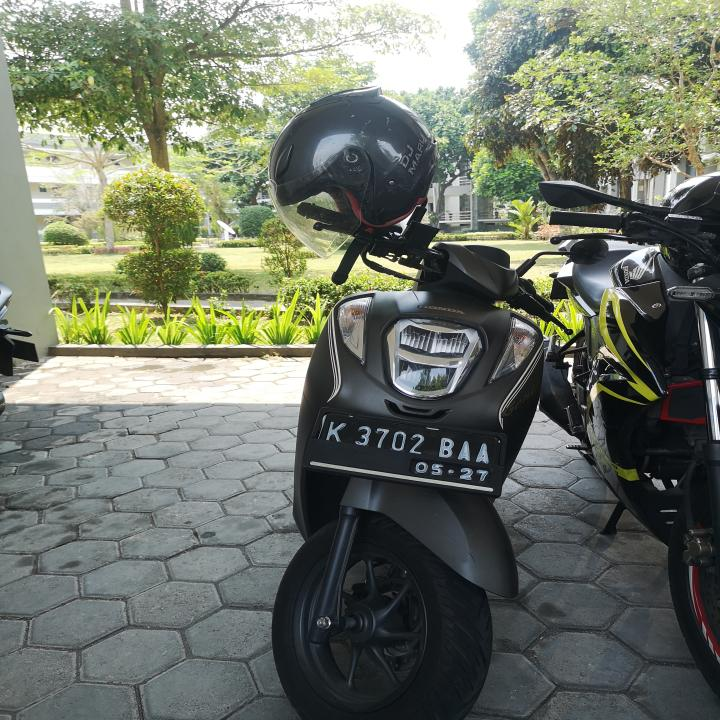plate: (308, 411, 509, 497)
